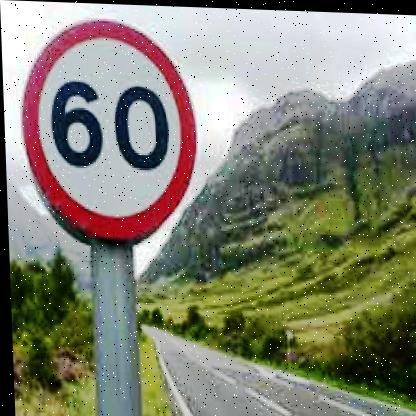Speed Limit -60-: (11, 9, 202, 244)
